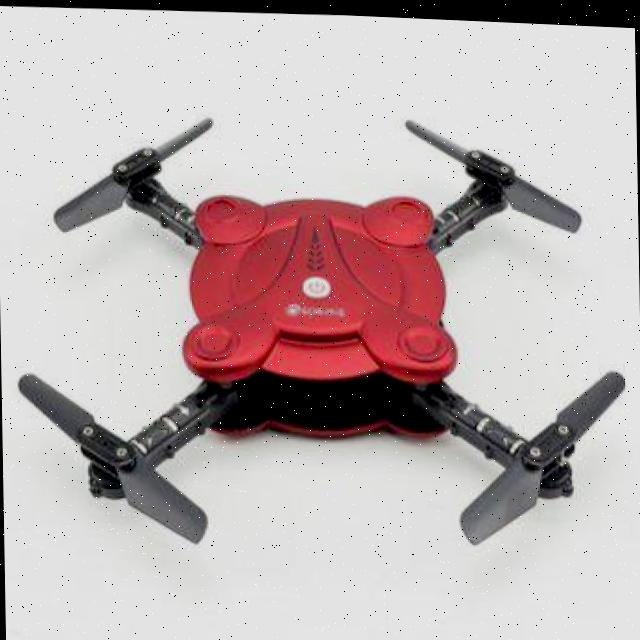drone: (0, 61, 640, 609)
